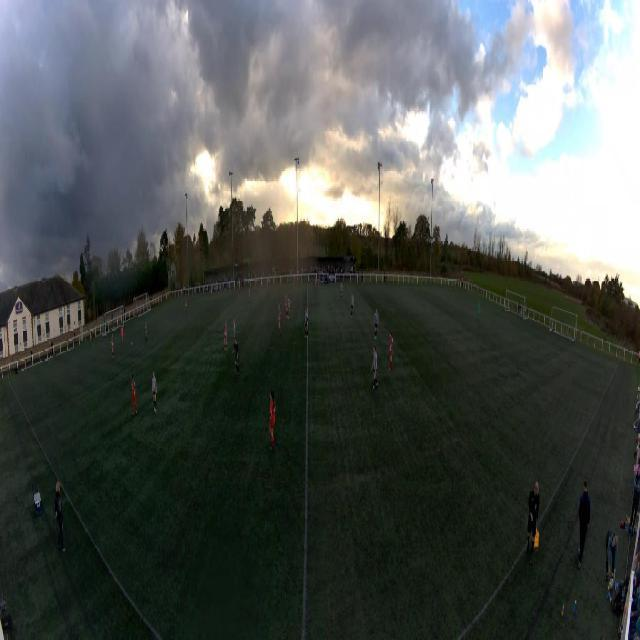ball: (131, 342, 132, 346)
player: (269, 390, 276, 448), (372, 344, 378, 390), (131, 373, 137, 417), (151, 372, 157, 414), (234, 339, 240, 375), (389, 332, 393, 371), (374, 309, 379, 340), (304, 309, 309, 339), (224, 320, 228, 352), (232, 319, 236, 351), (350, 292, 354, 319), (111, 334, 115, 358), (284, 294, 288, 318), (287, 295, 291, 319), (278, 305, 281, 336), (339, 283, 343, 300), (145, 322, 148, 342), (477, 302, 480, 320), (121, 325, 124, 343), (315, 277, 318, 291), (248, 287, 250, 306), (185, 297, 187, 314), (255, 279, 257, 291)
